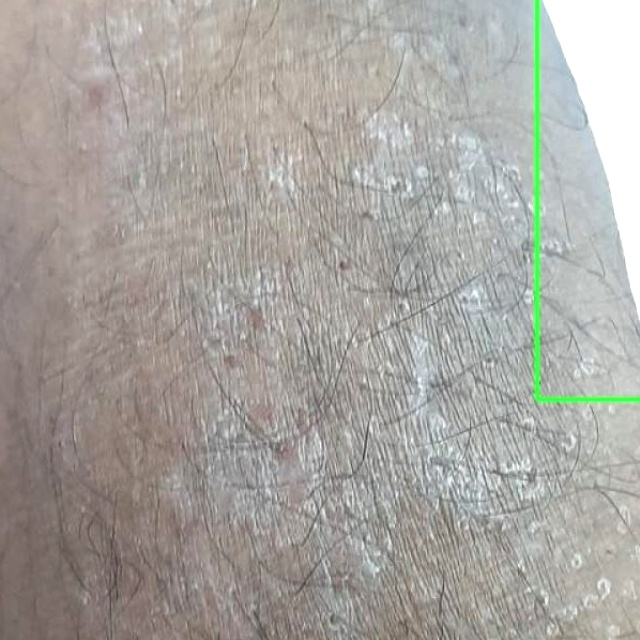Contact Dermatitis: (537, 0, 639, 399)
